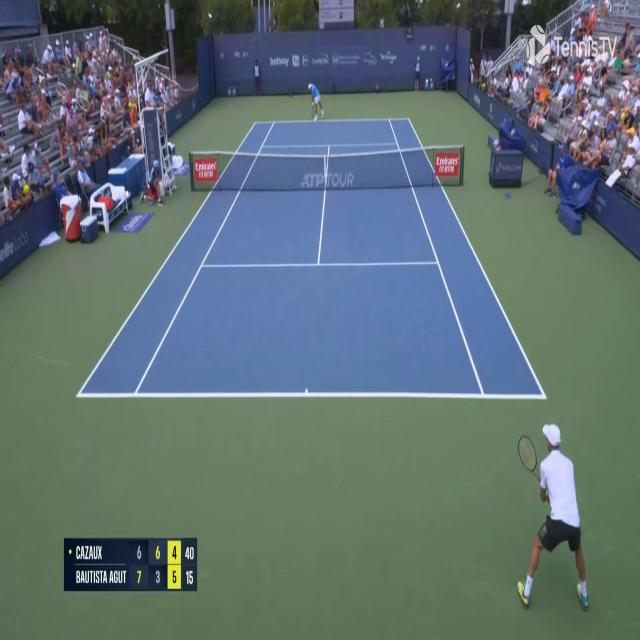tennis-player: (513, 419, 593, 610), (306, 78, 326, 122)
